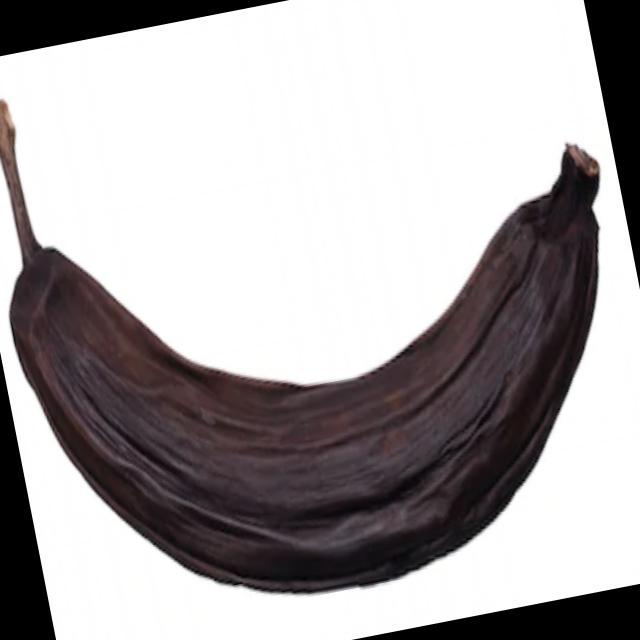rotten-banana: (0, 29, 640, 631)
